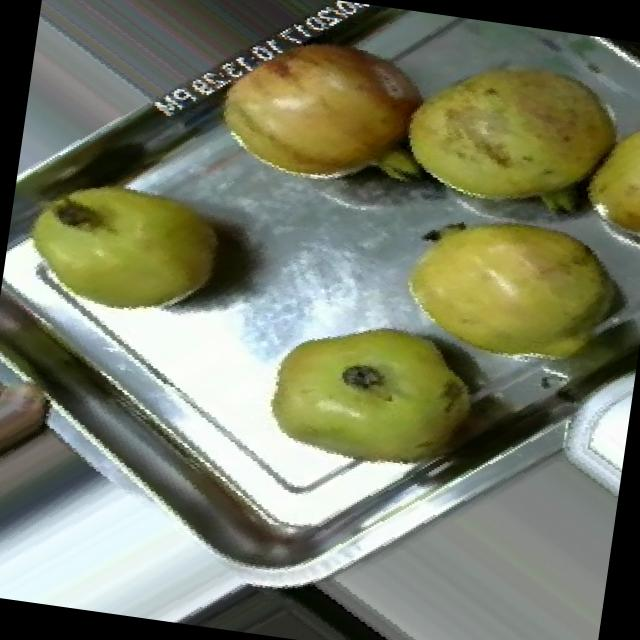fruit: (233, 286, 523, 508), (372, 180, 640, 408), (374, 18, 640, 236), (189, 0, 446, 217), (3, 148, 257, 346), (556, 80, 640, 269)
